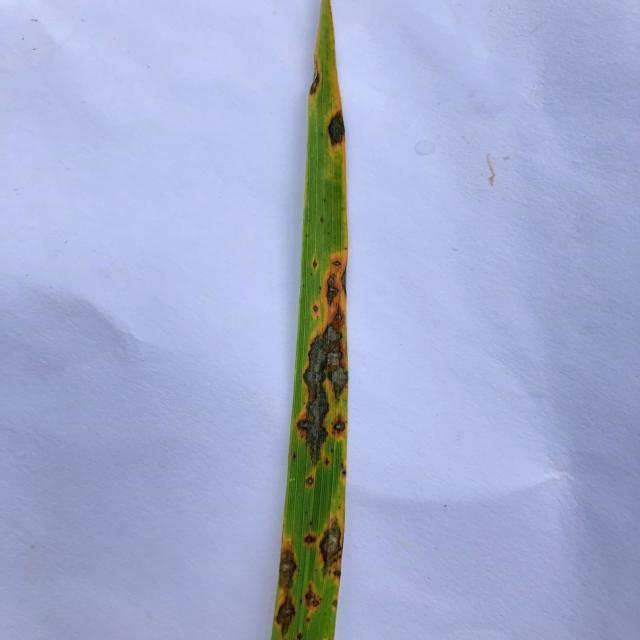Leaf_Blast: (303, 331, 323, 472), (322, 317, 348, 402), (317, 515, 342, 576), (270, 592, 299, 639), (276, 542, 299, 594), (319, 269, 343, 309), (325, 108, 348, 147), (298, 586, 321, 613), (331, 417, 345, 441)
